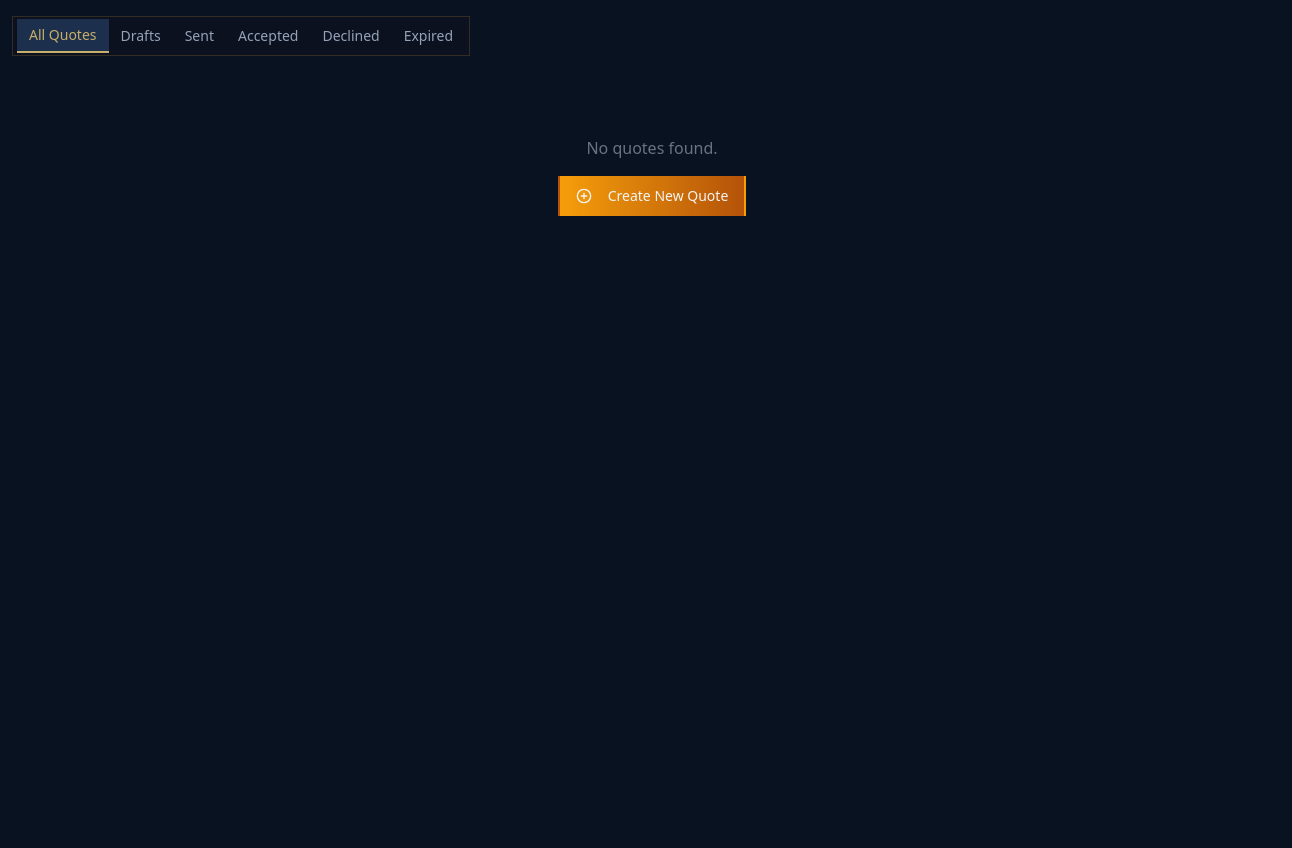
Scenario: QuoteManager – service/add-on selection changes the quote total › Create mode shows a non-zero default total
The width and height of the screenshot is (1292, 848).
Click the button "Create New Quote" at [652, 196], box [558,176,746,216]
(page scrolled)
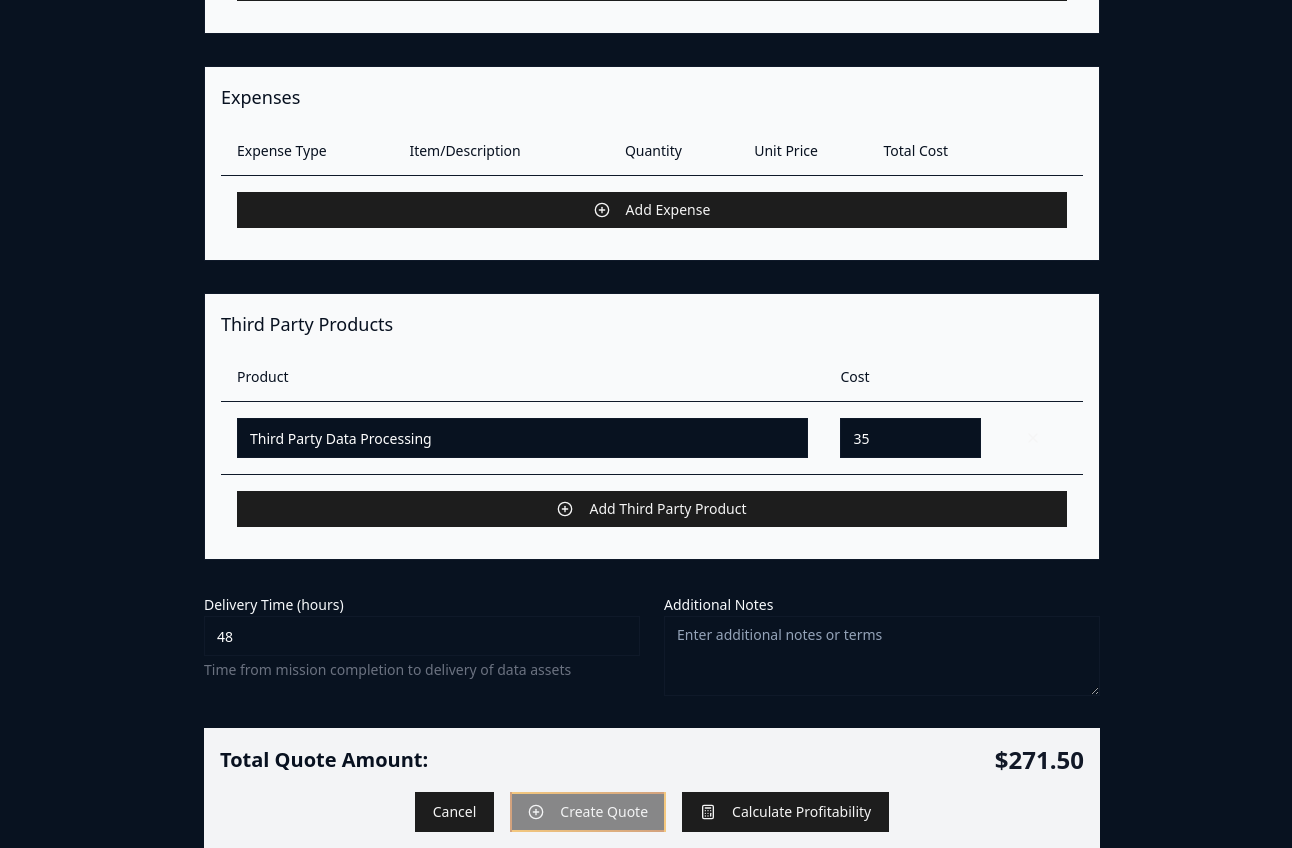
Check: the heading "Total Quote Amount:" is shown, box [220,746,428,774]
